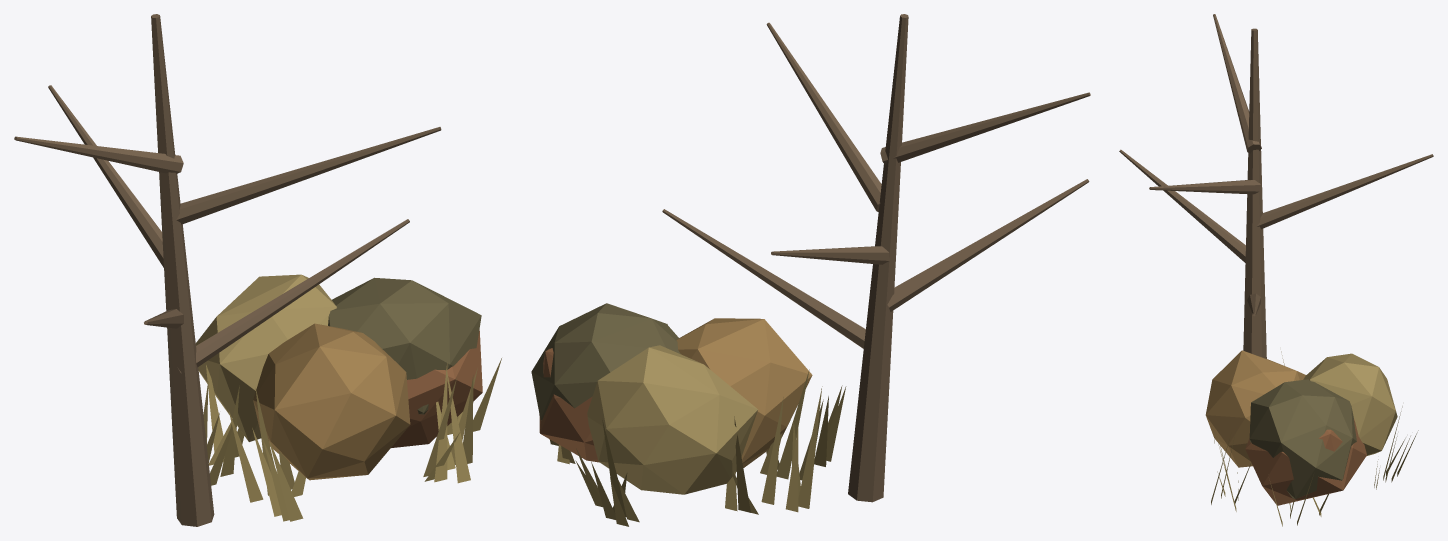
File: dry.glb
The picture shows the model from 3 angles, left to right: view 1: azimuth 30°, elevation 25°; view 2: azimuth 150°, elevation 25°; view 3: azimuth 270°, elevation 25°; orthographic projection. The views are drawn at different scales.
Visible parts, largest first — view 1: dry; view 2: dry; view 3: dry.
Part boxes in pixels (x1,y1,x2,y2): dry: [14, 14, 501, 526]; dry: [531, 14, 1090, 526]; dry: [1119, 14, 1433, 526].
Bounding box in the file's own units: 0.9111 × 0.8529 × 0.6467.
